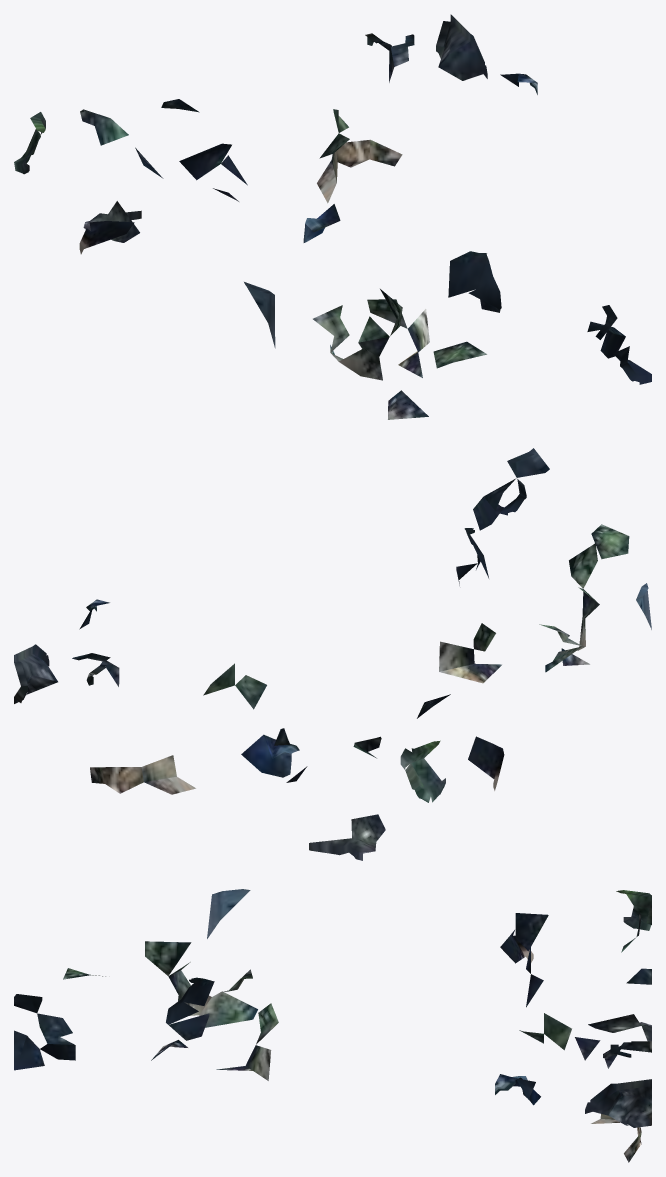
3 views of the same model, one above another, from view 1: azimuth 30°, elevation 25°; view 2: azimuth 150°, elevation 25°; view 3: azimuth 270°, elevation 25° (orthographic). The views are drawn at different scales.
Parts seen in each view (by area): view 1: 30436272704370435522_1; view 2: 30436272704370435522_1; view 3: 30436272704370435522_1.
Part boxes in pixels (<box>): 30436272704370435522_1: <box>14,14,651,419</box>; 30436272704370435522_1: <box>14,448,651,860</box>; 30436272704370435522_1: <box>14,889,651,1162</box>.
Size of the model in its own units: 27.31 by 8.01 by 38.26.
1 material, 1 textured.
